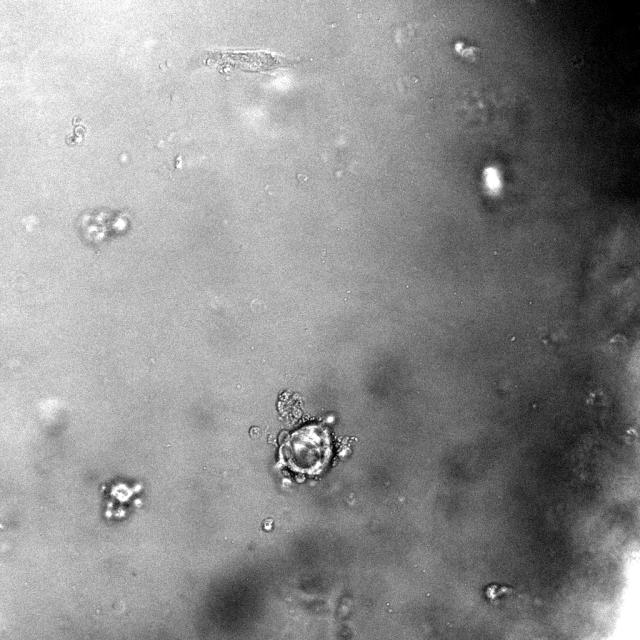organoid: (249, 389, 357, 489), (77, 209, 131, 246), (101, 476, 143, 522), (484, 582, 514, 606), (66, 115, 87, 147), (261, 517, 275, 532)
